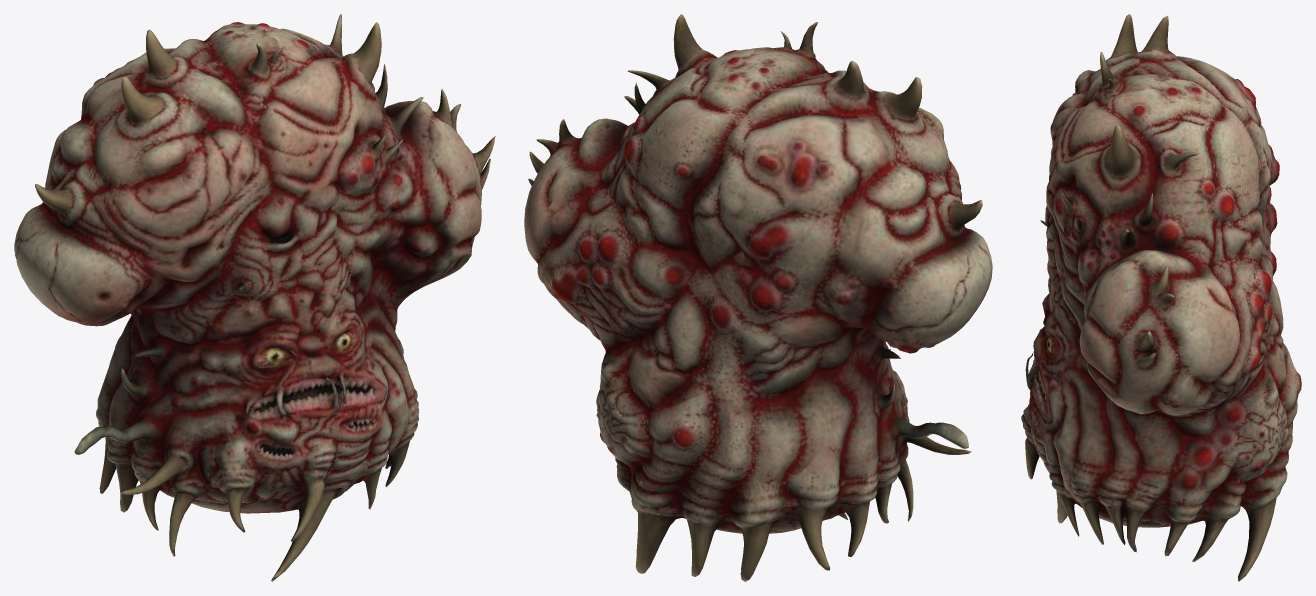
File: MZ4250 - Sibriex.glb
3 views of the same model, side by side, from view 1: azimuth 30°, elevation 25°; view 2: azimuth 150°, elevation 25°; view 3: azimuth 270°, elevation 25° (orthographic). The views are drawn at different scales.
Parts seen in each view (by area): view 1: ORGANIC BASE SPHERE.001; view 2: ORGANIC BASE SPHERE.001; view 3: ORGANIC BASE SPHERE.001.
Part boxes in pixels (<box>): ORGANIC BASE SPHERE.001: <box>14,14,495,581</box>; ORGANIC BASE SPHERE.001: <box>524,14,992,581</box>; ORGANIC BASE SPHERE.001: <box>1021,14,1301,581</box>.
Size of the model in its own units: 1.82 by 2.01 by 1.05.
Materials: 1 (1 with a texture image).
